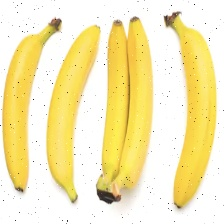banana: (0, 13, 198, 182)
